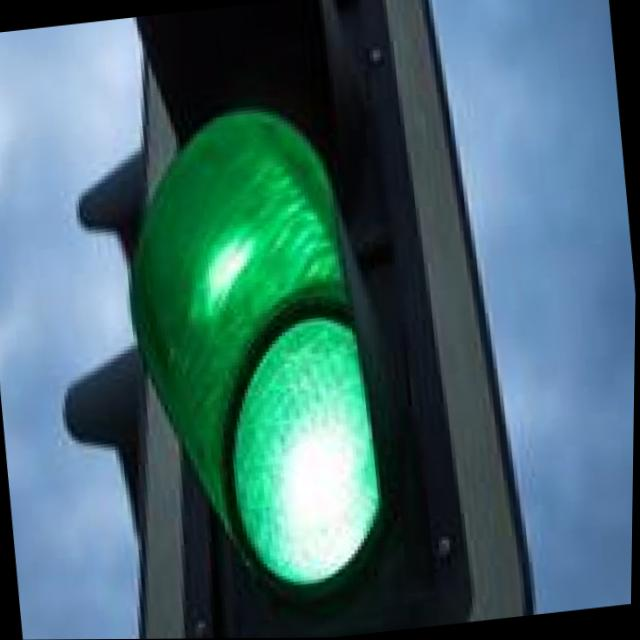green_light: (44, 146, 490, 611)
